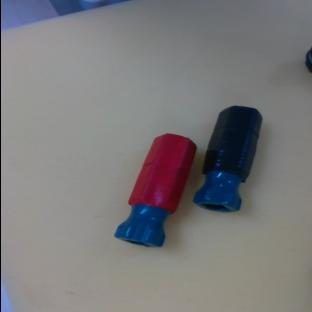part_2_bad: (190, 99, 265, 217)
part_2_good: (113, 126, 201, 254)
